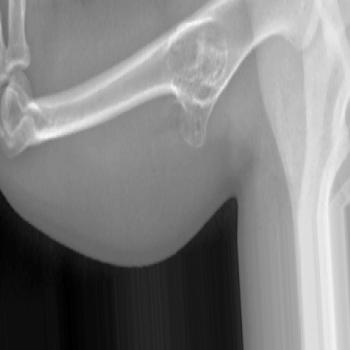Fracture: (164, 0, 236, 124)
